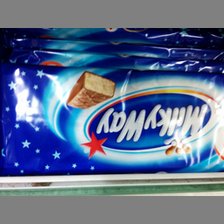chocolate: (2, 63, 223, 175)
